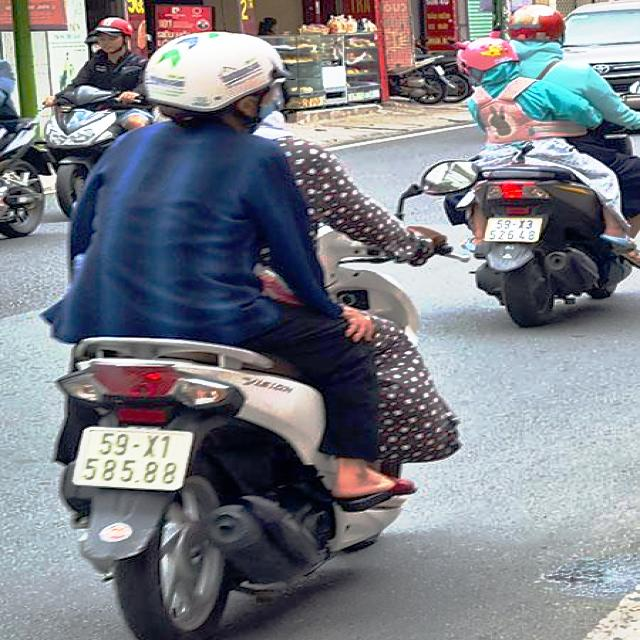license_plate: (76, 428, 195, 492), (484, 216, 545, 243)
